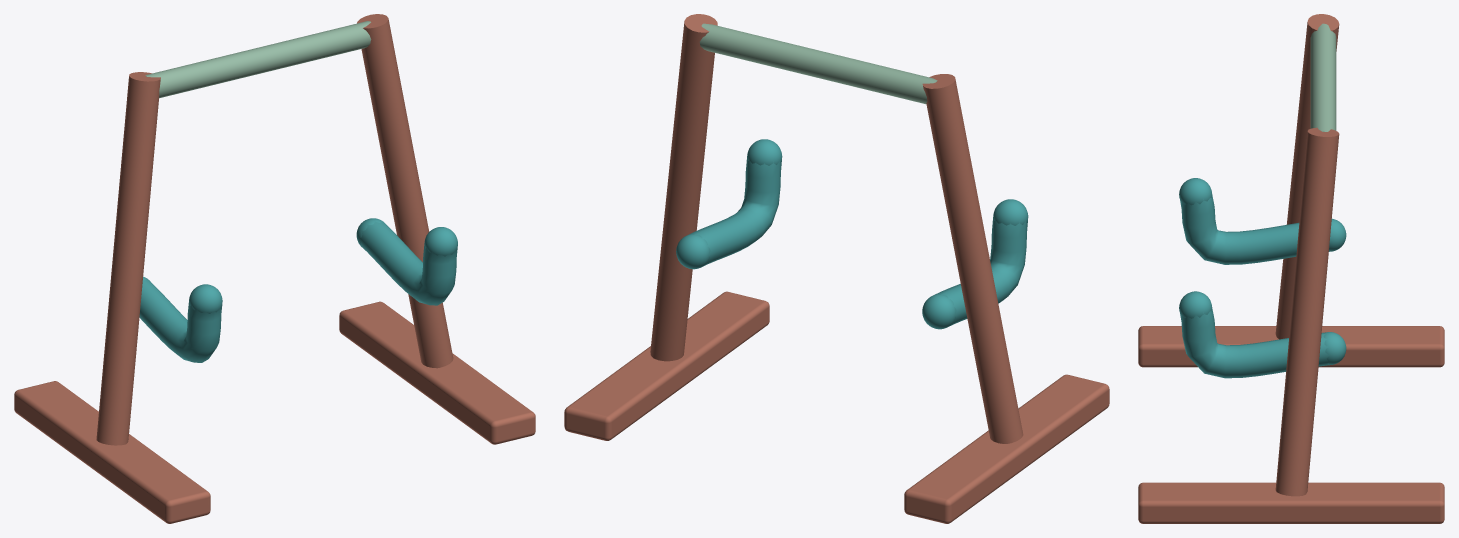
The model's file is enchanted-harp-garden-and-music-sanctuary-lyre-stand-004a6cce__30410.glb.
3 renders of one model, left to right at view 1: azimuth 30°, elevation 25°; view 2: azimuth 150°, elevation 25°; view 3: azimuth 270°, elevation 25°, orthographic. The views are drawn at different scales.
Parts seen in each view (by area): view 1: lyre-stand; view 2: lyre-stand; view 3: lyre-stand.
Boxes of the visible parts, x1=… form: lyre-stand: x1=14, y1=14, x2=535, y2=523; lyre-stand: x1=564, y1=14, x2=1109, y2=523; lyre-stand: x1=1138, y1=14, x2=1444, y2=523.
Size of the model in its own units: 0.66 by 0.6242 by 0.48.
